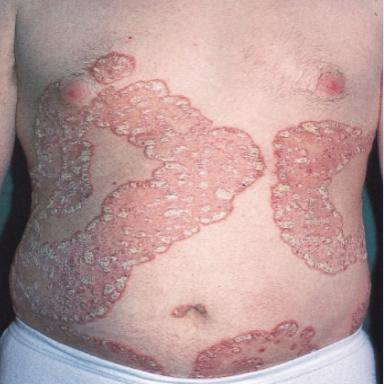Psoriasis: (8, 80, 264, 323), (272, 121, 367, 273), (192, 320, 317, 378), (41, 325, 165, 374), (90, 52, 136, 84), (350, 299, 369, 334), (172, 304, 207, 317)
